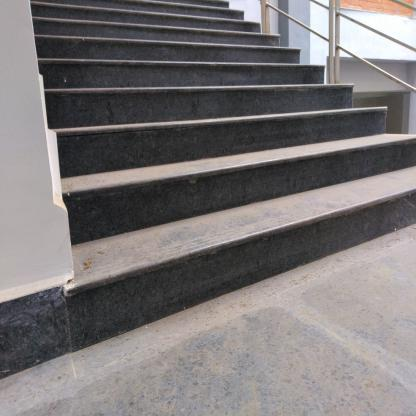stairs: (76, 49, 302, 319)
